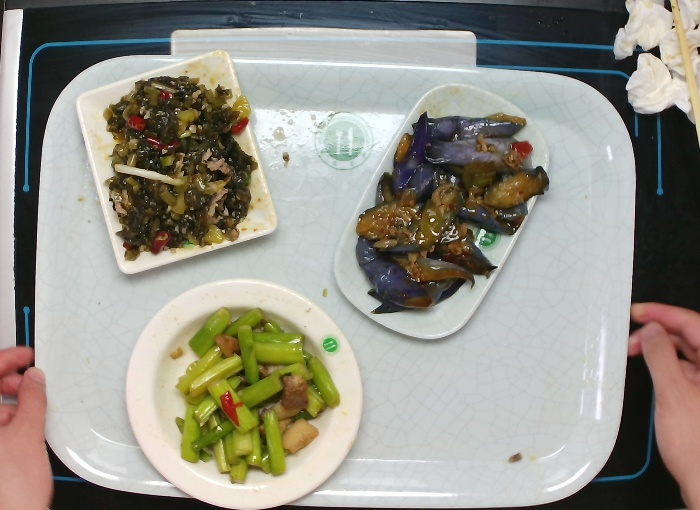WCQzf-Bai_Se_Si_Fang_Die: (71, 47, 281, 277)
WCQzf-Kuan_Bian_Yuan_Die: (120, 274, 367, 509)
WCQzf-Tuo_Yuan_Pan: (329, 80, 553, 344)
